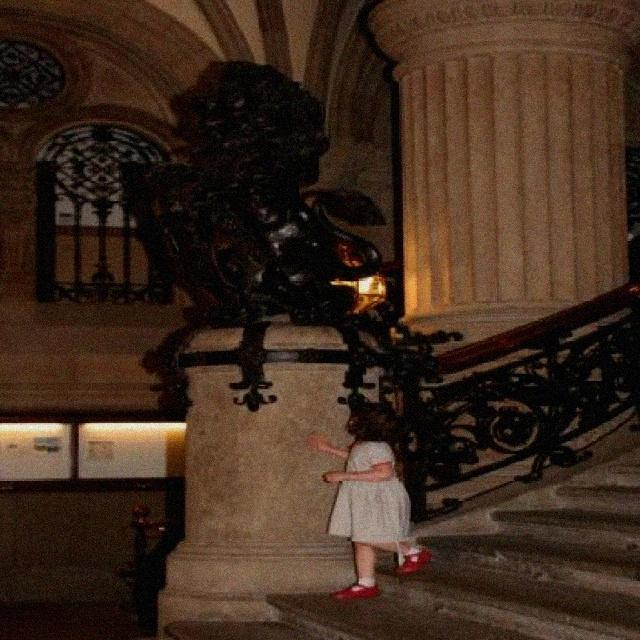stair: (160, 443, 640, 640)
